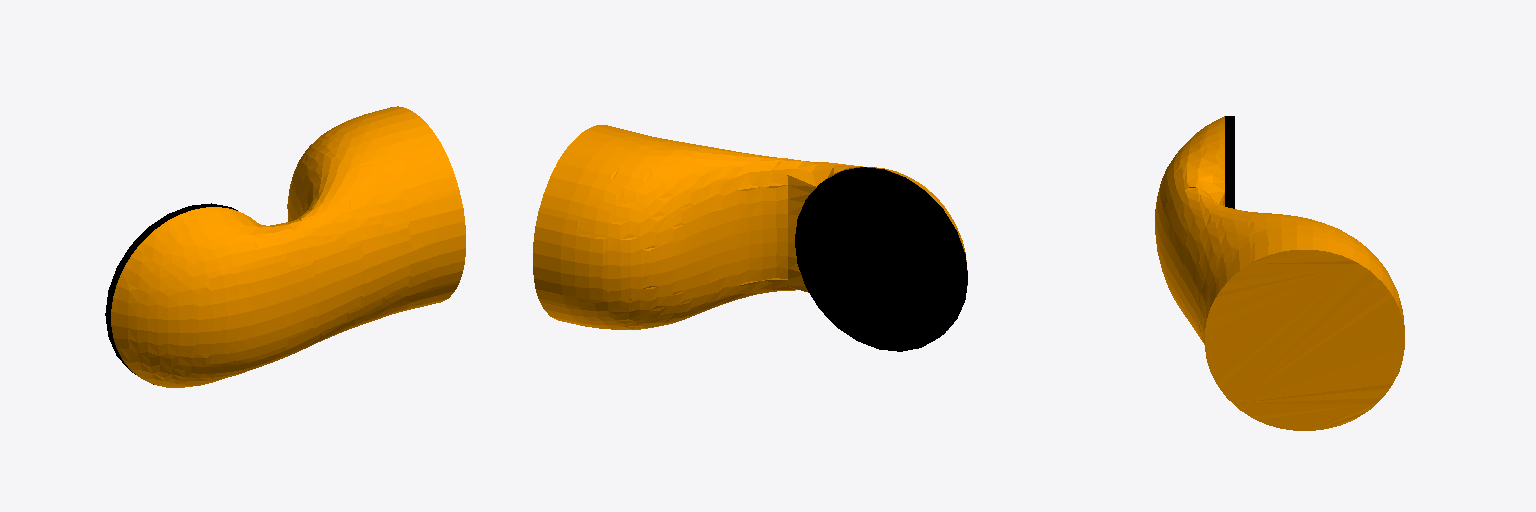
The model's file is lbr3_j5.obj.
The picture shows the model from 3 angles: view 1: azimuth 30°, elevation 25°; view 2: azimuth 150°, elevation 25°; view 3: azimuth 270°, elevation 25°; orthographic projection.
Parts seen in each view (by area): view 1: Entity_link__5, Default_1_link__6; view 2: Entity_link__5, Default_1_link__6; view 3: Entity_link__5, Default_1_link__6.
Part boxes in pixels (bbox=[...]): Entity_link__5: bbox=[111, 106, 465, 387]; Default_1_link__6: bbox=[105, 203, 237, 384]; Entity_link__5: bbox=[533, 125, 967, 330]; Default_1_link__6: bbox=[795, 167, 967, 351]; Entity_link__5: bbox=[1155, 116, 1404, 430]; Default_1_link__6: bbox=[1225, 116, 1234, 208].
Size of the model in its own units: 0.1621 by 0.0812 by 0.1014.